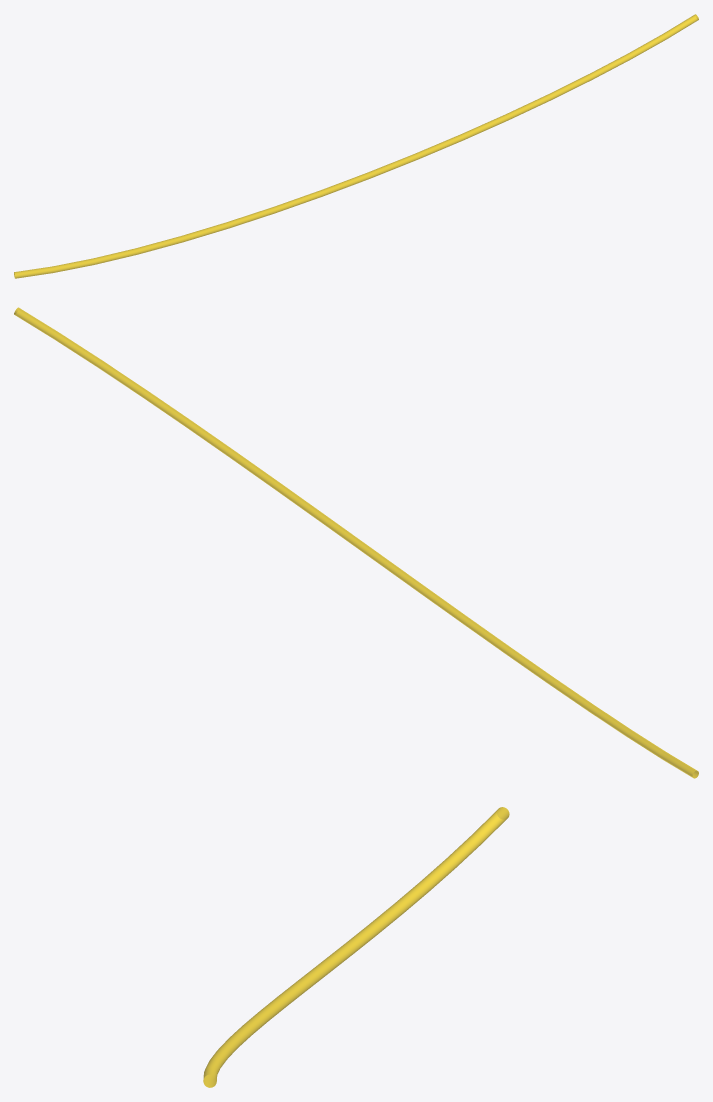
Rendered from Event_17758602_track_50.fbx.
3 renders of one model, top to bottom at view 1: azimuth 30°, elevation 25°; view 2: azimuth 150°, elevation 25°; view 3: azimuth 270°, elevation 25°, orthographic. The views are drawn at different scales.
Visible parts, largest first — view 1: Model; view 2: Model; view 3: Model.
Part boxes in pixels (x1=…): Model: x1=14, y1=14, x2=698, y2=278; Model: x1=14, y1=307, x2=698, y2=778; Model: x1=203, y1=807, x2=509, y2=1087.
Size of the model in its own units: 4.2 by 1.11 by 0.9107.
